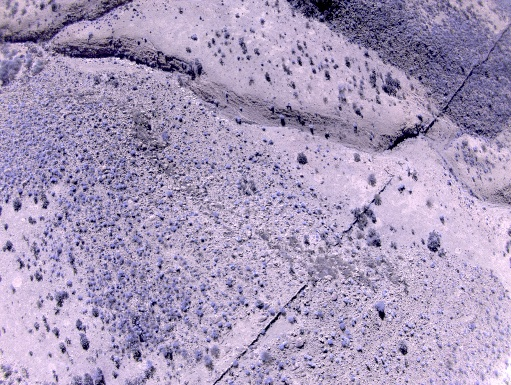agave: (115, 254, 125, 265), (315, 310, 327, 319), (102, 256, 113, 264), (114, 184, 128, 190), (294, 182, 306, 189), (51, 168, 60, 177), (200, 285, 210, 293), (338, 323, 348, 331), (174, 115, 185, 122), (211, 211, 220, 219), (254, 150, 263, 158), (154, 221, 162, 229), (236, 285, 243, 294), (190, 238, 199, 245), (187, 143, 193, 153), (133, 237, 141, 244), (156, 273, 164, 280), (226, 281, 233, 289), (50, 177, 57, 185), (74, 167, 81, 175), (83, 163, 90, 171), (279, 308, 286, 316), (157, 237, 164, 244), (107, 191, 114, 198), (157, 213, 164, 220), (74, 220, 81, 227), (225, 164, 232, 171), (100, 222, 108, 228), (166, 191, 173, 197), (213, 256, 219, 263), (136, 250, 142, 257), (261, 137, 268, 143), (227, 145, 234, 151), (173, 145, 180, 151), (171, 225, 176, 233), (70, 187, 76, 193), (82, 147, 88, 153), (102, 121, 108, 127), (245, 165, 251, 171), (109, 220, 114, 227), (132, 197, 139, 202), (109, 244, 116, 249), (259, 281, 264, 288), (276, 192, 283, 197), (157, 258, 163, 263), (82, 186, 88, 191), (202, 246, 207, 252), (65, 179, 71, 184), (90, 218, 96, 223), (86, 245, 91, 251), (79, 156, 85, 161), (208, 168, 213, 174), (159, 200, 166, 204), (202, 132, 209, 136), (123, 202, 128, 207), (60, 166, 65, 171), (168, 157, 173, 162), (159, 182, 164, 187), (179, 201, 183, 207), (28, 192, 32, 198), (173, 256, 179, 260), (143, 223, 146, 230), (136, 218, 141, 222), (201, 238, 205, 243), (211, 274, 216, 278), (188, 221, 192, 225), (86, 129, 90, 133), (201, 160, 205, 164)
